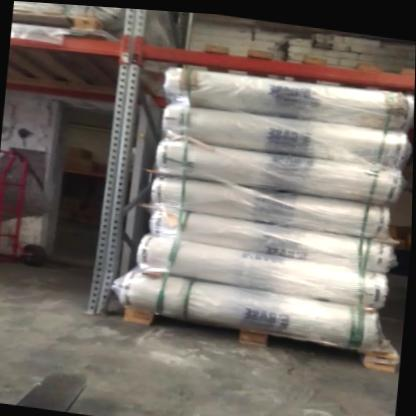vertical_damage: (72, 259, 124, 320)
